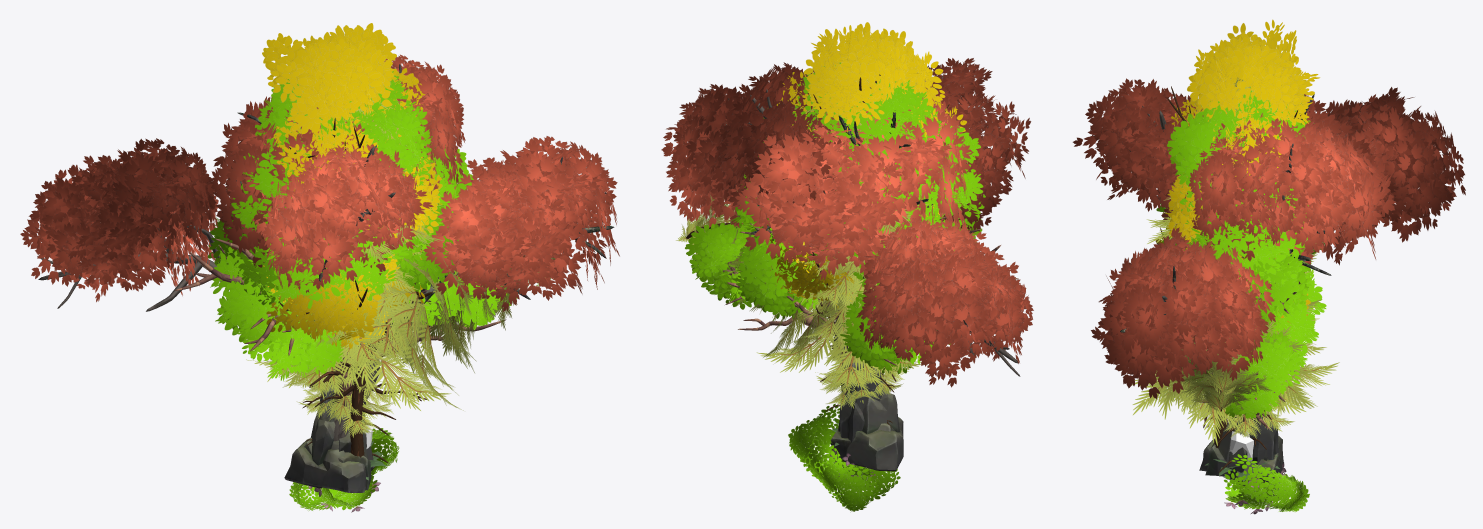
File: doga-C5qWFykS.glb
3 views of the same model, side by side, from view 1: azimuth 30°, elevation 25°; view 2: azimuth 150°, elevation 25°; view 3: azimuth 270°, elevation 25° (orthographic). The views are drawn at different scales.
Visible parts, largest first — view 1: MapleTree_2, MapleTree_1, BirchTree_2, NormalTree_2, NormalTree_1, PineTree_4, NormalTree_3, PineTree_1, Rock_5, PineTree_3, Bush_Large, BirchTree_3 (+3 smaller); view 2: MapleTree_2, MapleTree_1, BirchTree_2, NormalTree_3, NormalTree_1, PineTree_1, Bush_Large, NormalTree_2, Rock_5, PineTree_4, PineTree_3, Rock_4 (+2 smaller); view 3: MapleTree_2, MapleTree_1, BirchTree_2, NormalTree_2, NormalTree_3, PineTree_4, NormalTree_1, Bush_Large, PineTree_1, Rock_4, PineTree_3, BirchTree_3 (+4 smaller).
Part boxes in pixels (x1,y1,x2,y2): MapleTree_2: [20, 54, 465, 441]; MapleTree_1: [205, 96, 619, 311]; BirchTree_2: [262, 23, 442, 341]; NormalTree_2: [210, 98, 473, 353]; NormalTree_1: [207, 71, 458, 305]; PineTree_4: [309, 253, 555, 457]; NormalTree_3: [242, 225, 516, 380]; PineTree_1: [246, 285, 451, 435]; Rock_5: [284, 389, 375, 492]; PineTree_3: [296, 352, 398, 463]; Bush_Large: [289, 428, 399, 510]; BirchTree_3: [263, 144, 435, 348]; MapleTree_2: [719, 58, 1033, 387]; MapleTree_1: [661, 84, 973, 280]; BirchTree_2: [764, 22, 966, 300]; NormalTree_3: [685, 187, 985, 374]; NormalTree_1: [758, 62, 983, 285]; PineTree_1: [756, 248, 927, 395]; Bush_Large: [788, 404, 900, 511]; NormalTree_2: [733, 112, 954, 341]; Rock_5: [830, 379, 903, 471]; PineTree_4: [676, 190, 896, 381]; PineTree_3: [815, 351, 909, 427]; Rock_4: [839, 362, 882, 442]; MapleTree_2: [1072, 78, 1465, 420]; MapleTree_1: [1091, 94, 1396, 399]; BirchTree_2: [1155, 19, 1320, 337]; NormalTree_2: [1164, 109, 1318, 380]; NormalTree_3: [1156, 203, 1326, 419]; PineTree_4: [1132, 272, 1317, 476]; NormalTree_1: [1179, 87, 1324, 310]; Bush_Large: [1223, 454, 1309, 511]; PineTree_1: [1152, 252, 1339, 443]; Rock_4: [1228, 404, 1279, 486]; PineTree_3: [1188, 393, 1294, 472]; BirchTree_3: [1165, 173, 1277, 331].
Size of the model in its own units: 8.5 by 8.32 by 6.24.
Materials: 13 (12 with a texture image).
